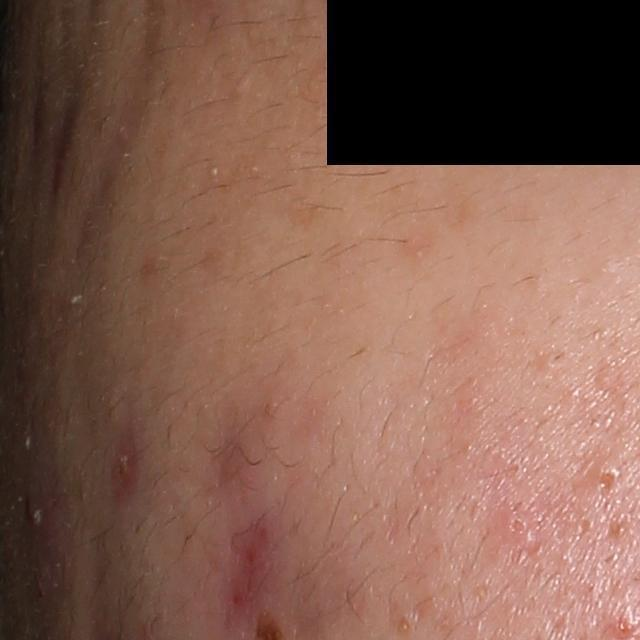comedo: (589, 458, 624, 497), (501, 512, 533, 542)
papule: (107, 446, 136, 492)
